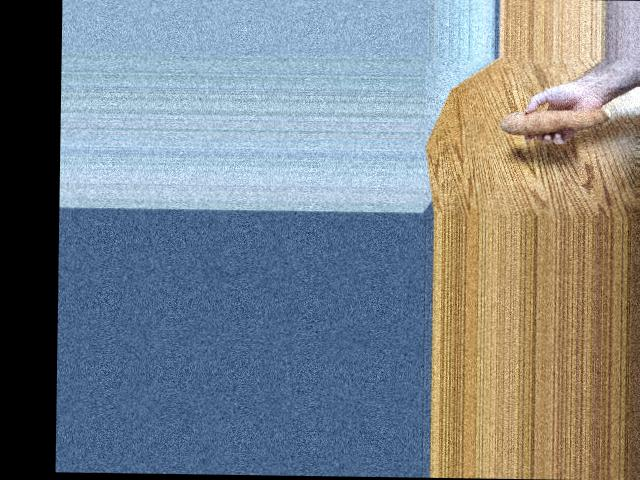sweet_potato: (496, 109, 606, 144)
